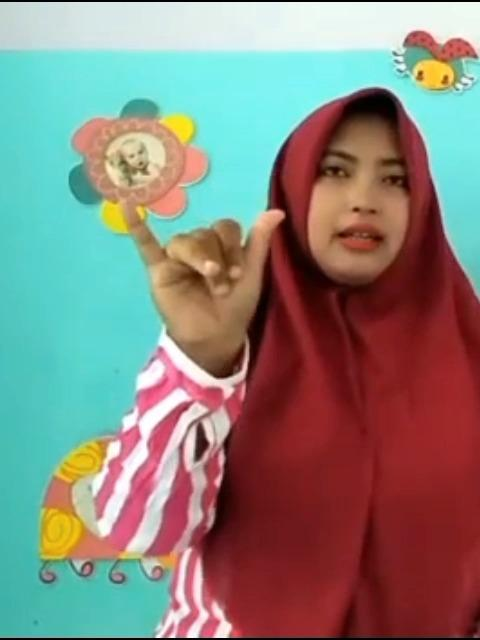Y: (116, 185, 290, 348)
